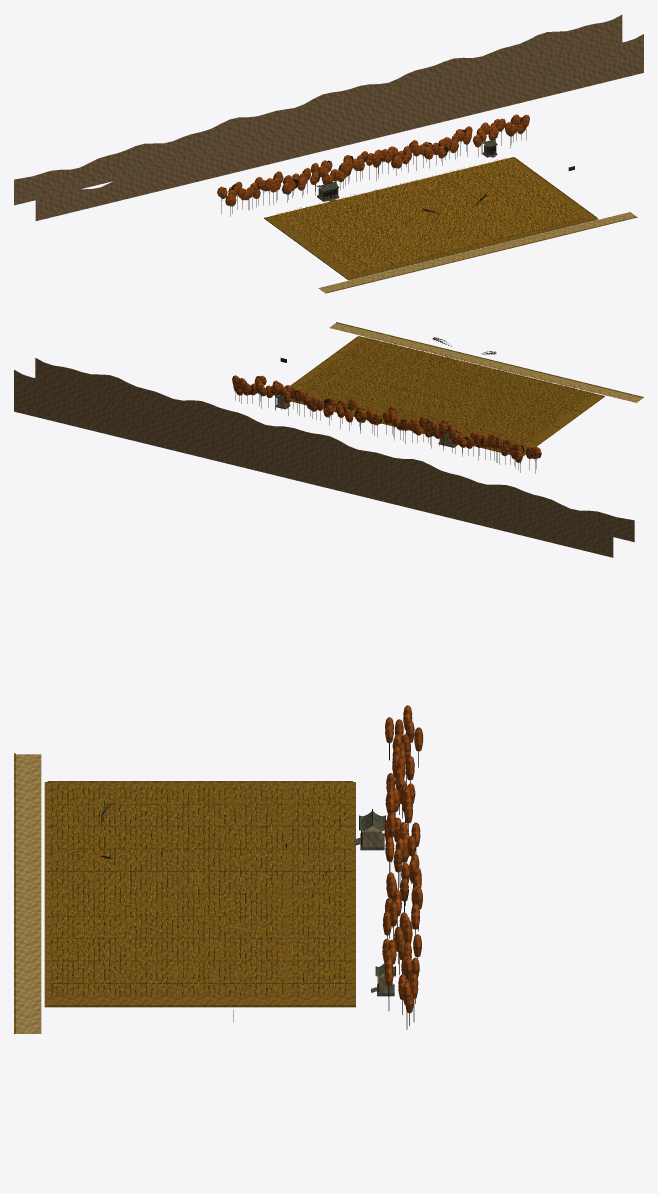
The model's file is JingXi_Aligned_Autumn.glb.
The picture shows the model from 3 angles, top to bottom: view 1: azimuth 30°, elevation 25°; view 2: azimuth 150°, elevation 25°; view 3: azimuth 270°, elevation 25°; orthographic projection. The views are drawn at different scales.
Parts seen in each view (by area): view 1: Autumn_MountainRidge_mountain, Autumn_FieldEarth_earth, Autumn_Rice_Blades_light, Autumn_Rice_Blades_rice, Autumn_Rice_Grains_grain, Autumn_TreeCrowns_crown, Autumn_Rice_ArchedPanicles_grain, Autumn_YuquanCanal_water, Autumn_CrossBanks_earth, Autumn_FieldBanks_earth, Autumn_TreeTrunks_wood, Autumn_NearBank_earth (+1 smaller); view 2: Autumn_MountainRidge_mountain, Autumn_FieldEarth_earth, Autumn_Rice_Blades_light, Autumn_Rice_Blades_rice, Autumn_TreeCrowns_crown, Autumn_Rice_Grains_grain, Autumn_YuquanCanal_water, Autumn_Rice_ArchedPanicles_grain, Autumn_FieldBanks_earth, Autumn_CrossBanks_earth, Autumn_TreeTrunks_wood, Autumn_NearBank_earth (+1 smaller); view 3: Autumn_FieldEarth_earth, Autumn_Rice_Blades_light, Autumn_Rice_Blades_rice, Autumn_TreeCrowns_crown, Autumn_YuquanCanal_water, Autumn_FieldBanks_earth, Autumn_CrossBanks_earth, Autumn_Rice_Grains_grain.
Part boxes in pixels (bbox=[...]): Autumn_MountainRidge_mountain: bbox=[14, 15, 643, 220]; Autumn_FieldEarth_earth: bbox=[264, 157, 598, 280]; Autumn_Rice_Blades_light: bbox=[276, 159, 586, 274]; Autumn_Rice_Blades_rice: bbox=[276, 159, 584, 275]; Autumn_Rice_Grains_grain: bbox=[277, 158, 583, 272]; Autumn_TreeCrowns_crown: bbox=[217, 114, 529, 206]; Autumn_Rice_ArchedPanicles_grain: bbox=[280, 158, 585, 271]; Autumn_YuquanCanal_water: bbox=[318, 212, 636, 292]; Autumn_CrossBanks_earth: bbox=[265, 157, 596, 278]; Autumn_FieldBanks_earth: bbox=[264, 157, 597, 279]; Autumn_TreeTrunks_wood: bbox=[221, 129, 526, 216]; Autumn_NearBank_earth: bbox=[325, 217, 637, 293]; Autumn_MountainRidge_mountain: bbox=[14, 358, 634, 557]; Autumn_FieldEarth_earth: bbox=[276, 336, 604, 456]; Autumn_Rice_Blades_light: bbox=[297, 337, 593, 444]; Autumn_Rice_Blades_rice: bbox=[298, 338, 591, 445]; Autumn_TreeCrowns_crown: bbox=[232, 375, 541, 462]; Autumn_Rice_Grains_grain: bbox=[296, 337, 592, 443]; Autumn_YuquanCanal_water: bbox=[329, 323, 643, 402]; Autumn_Rice_ArchedPanicles_grain: bbox=[301, 339, 591, 443]; Autumn_FieldBanks_earth: bbox=[290, 336, 604, 455]; Autumn_CrossBanks_earth: bbox=[291, 336, 603, 453]; Autumn_TreeTrunks_wood: bbox=[235, 390, 536, 473]; Autumn_NearBank_earth: bbox=[336, 322, 643, 397]; Autumn_FieldEarth_earth: bbox=[44, 782, 355, 1007]; Autumn_Rice_Blades_light: bbox=[49, 784, 347, 996]; Autumn_Rice_Blades_rice: bbox=[50, 784, 347, 996]; Autumn_TreeCrowns_crown: bbox=[382, 705, 423, 1013]; Autumn_YuquanCanal_water: bbox=[16, 754, 41, 1033]; Autumn_FieldBanks_earth: bbox=[48, 781, 352, 1006]; Autumn_CrossBanks_earth: bbox=[47, 781, 353, 1005]; Autumn_Rice_Grains_grain: bbox=[50, 783, 346, 991].
Size of the model in its own units: 195 by 13.26 by 95.15.
Materials: 16 (16 with a texture image).
